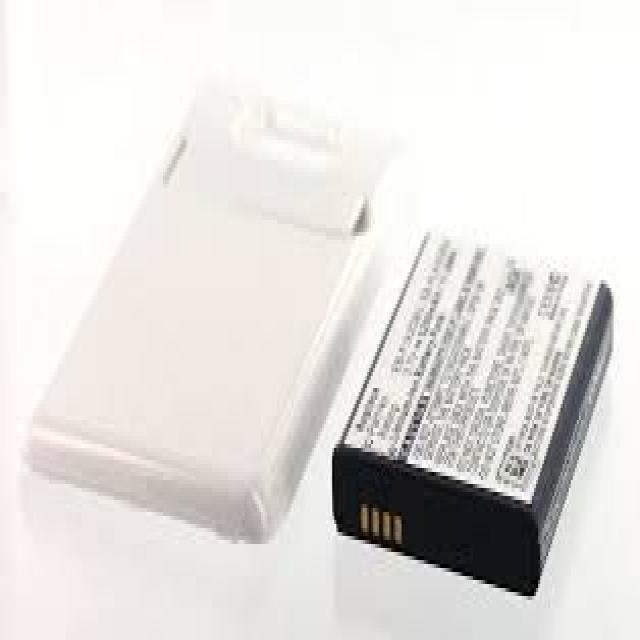battery: (329, 228, 618, 598)
